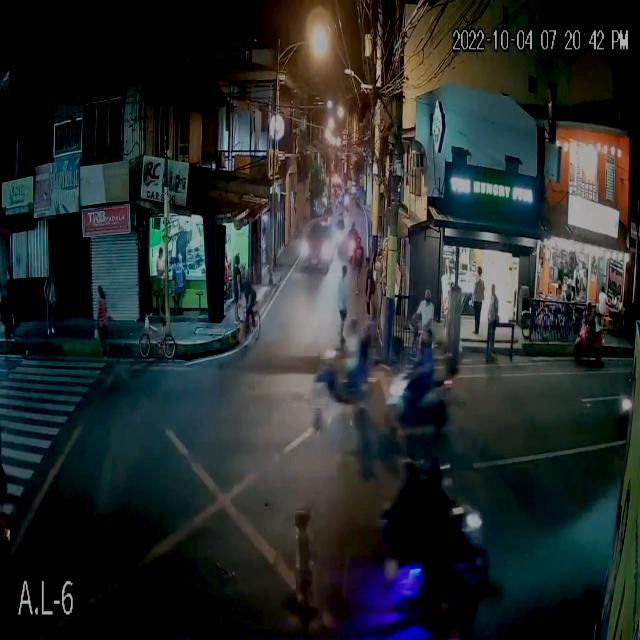Full-Faced: (398, 454, 421, 492)
Half-Faced: (425, 454, 455, 499)
